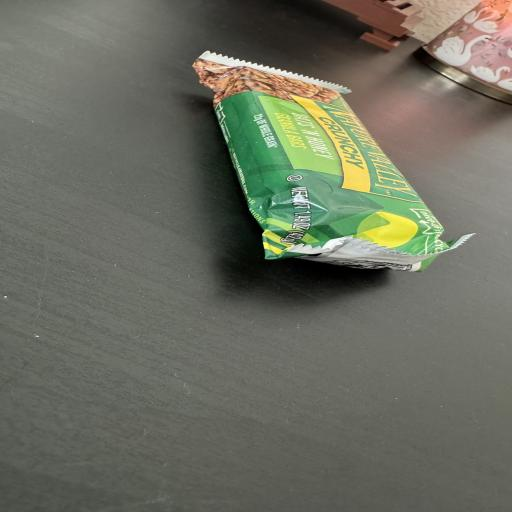granola: (194, 52, 470, 271)
